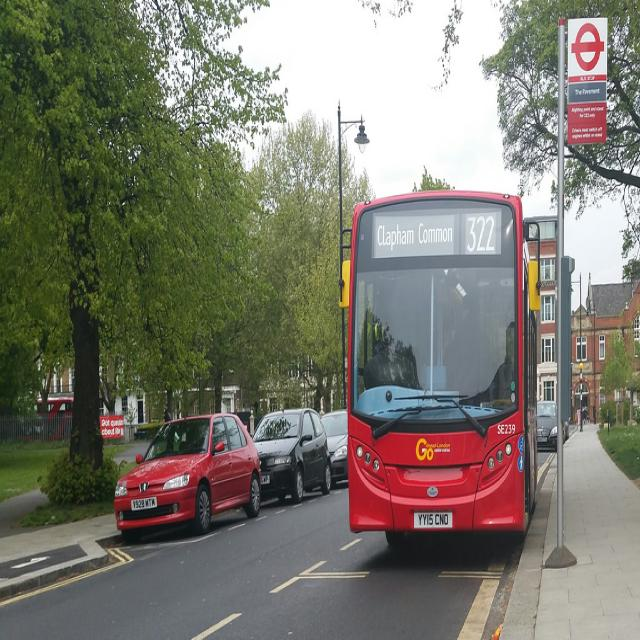car: (107, 405, 266, 544)
